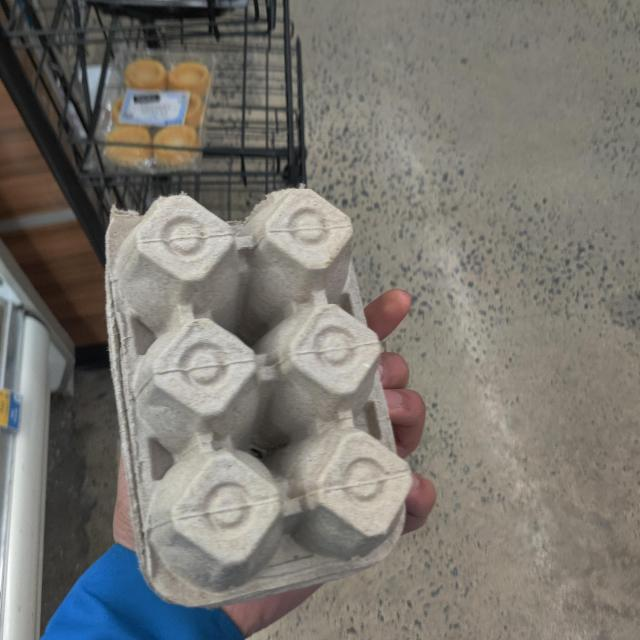Eggs: (103, 192, 406, 595)
